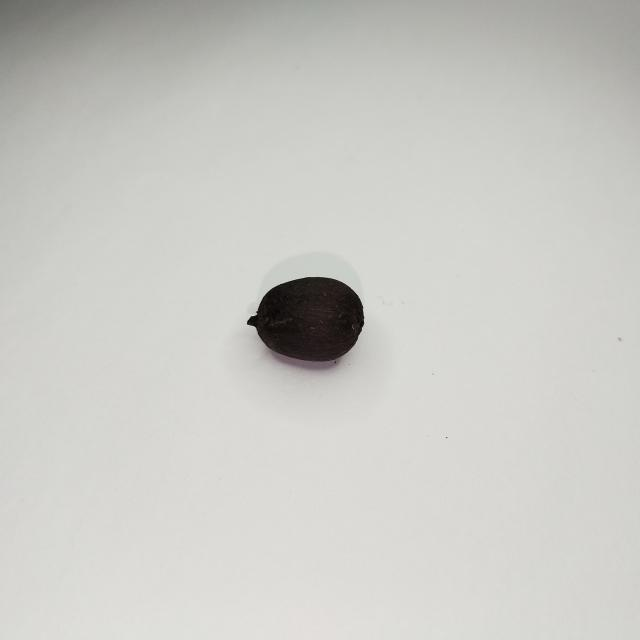Danado: (248, 277, 363, 362)
